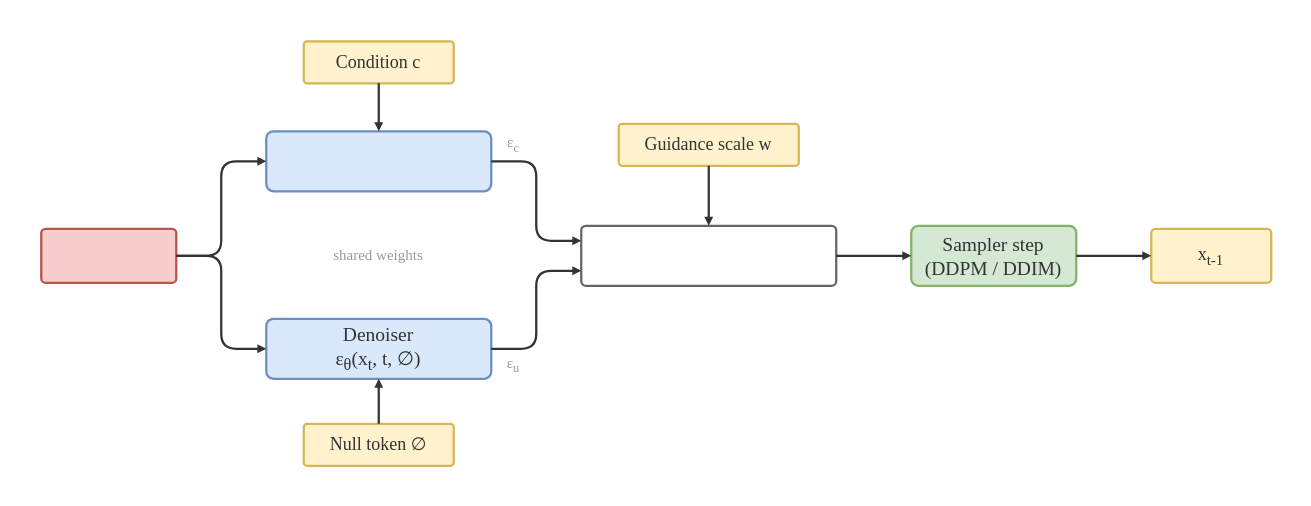
Image size: 1311x506. Some labels were removed from this diagram. The shapes that lost their labels are listed below. From the top down, each one's box as (x1, y1, x2, y2) in pixels, then its label:
(264, 129, 492, 192): Denoiser ε θ (x t , t, c)
(39, 227, 177, 283): x t , t
(579, 224, 837, 286): ε̃ = ε u + w (ε c − ε u )
